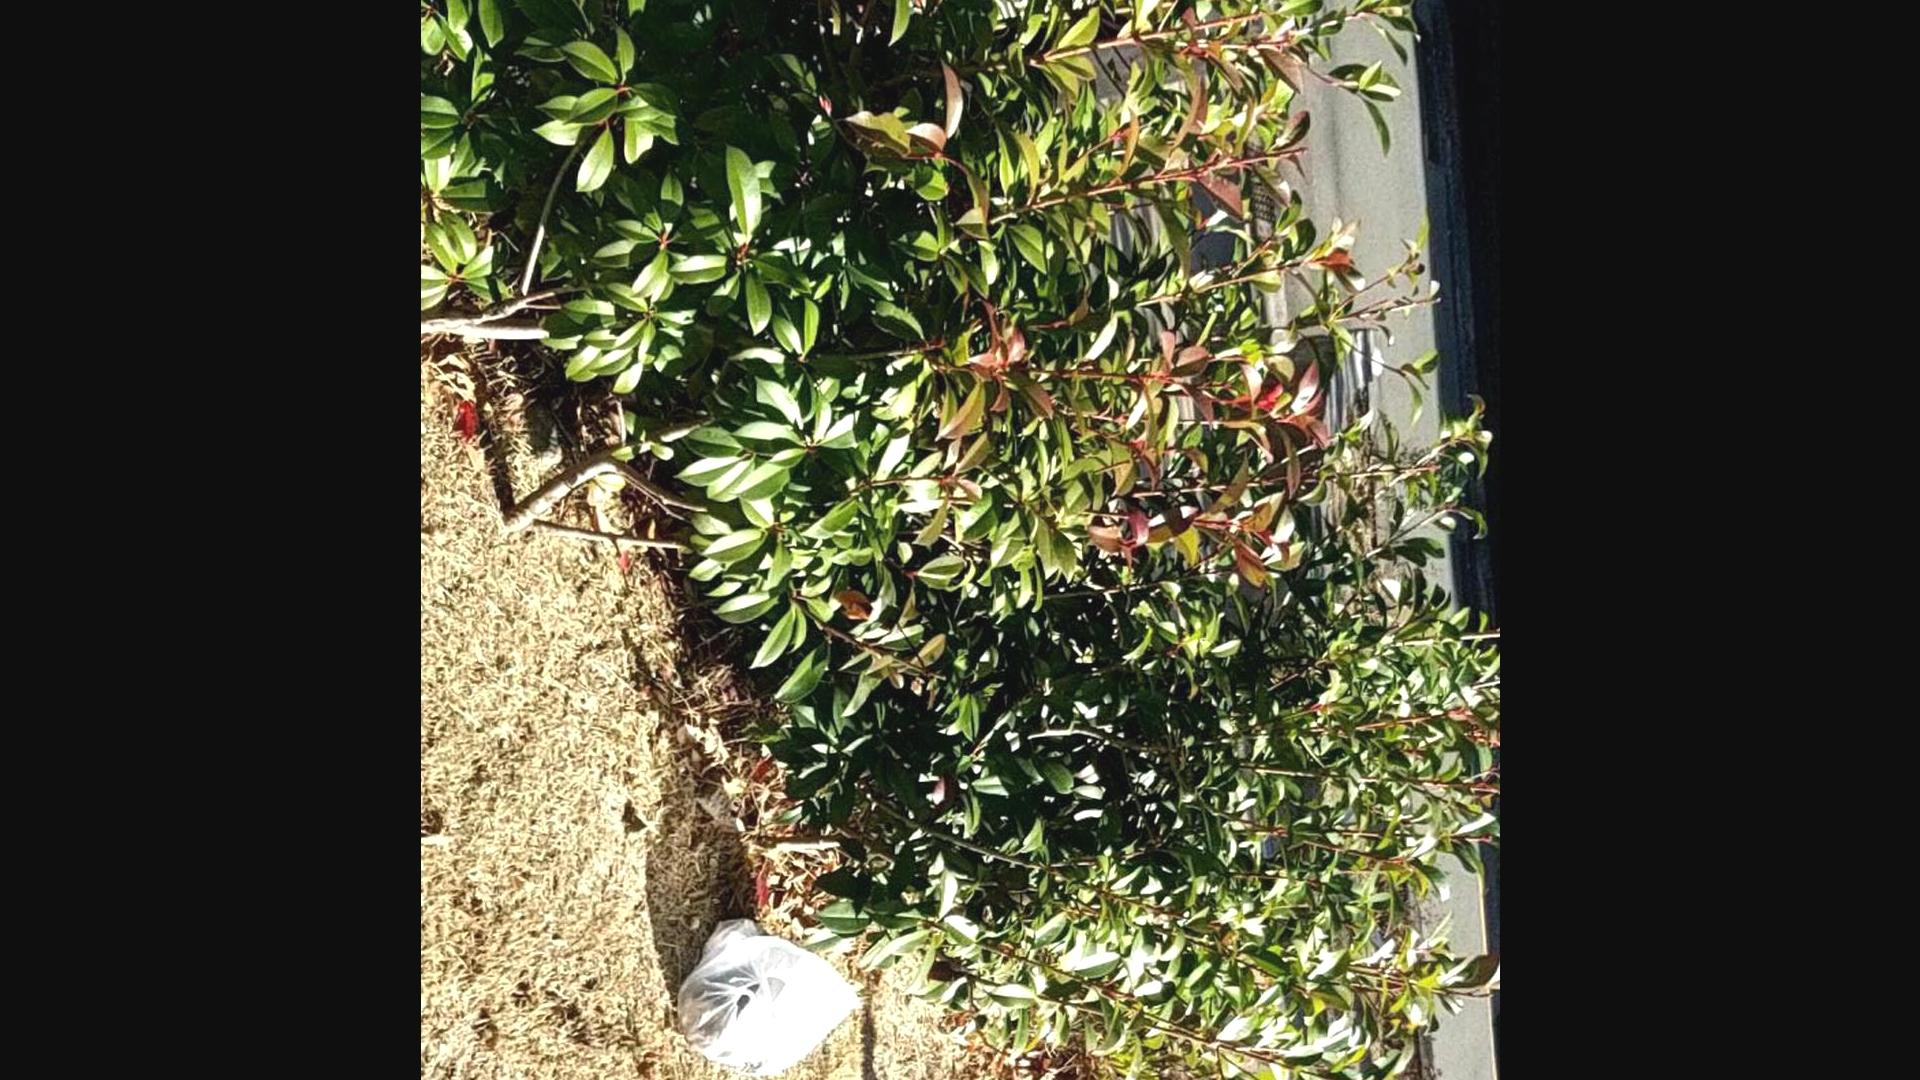white_bag: (665, 899, 862, 1080)
